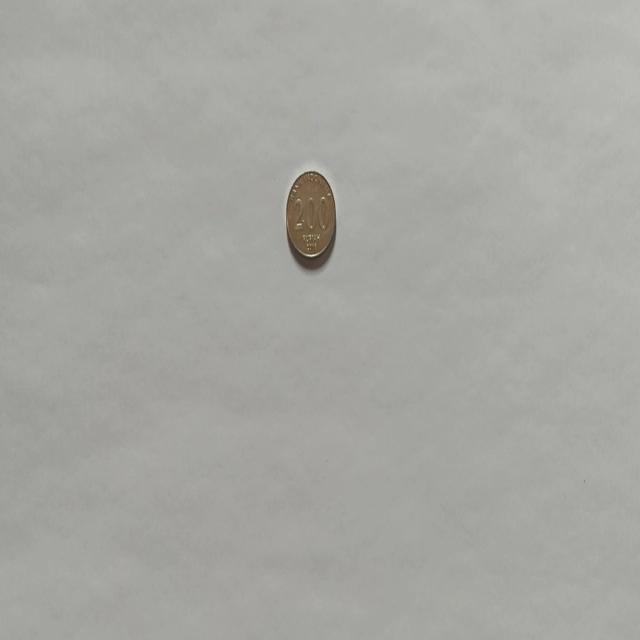dua ratus rupiah: (284, 168, 336, 262)
